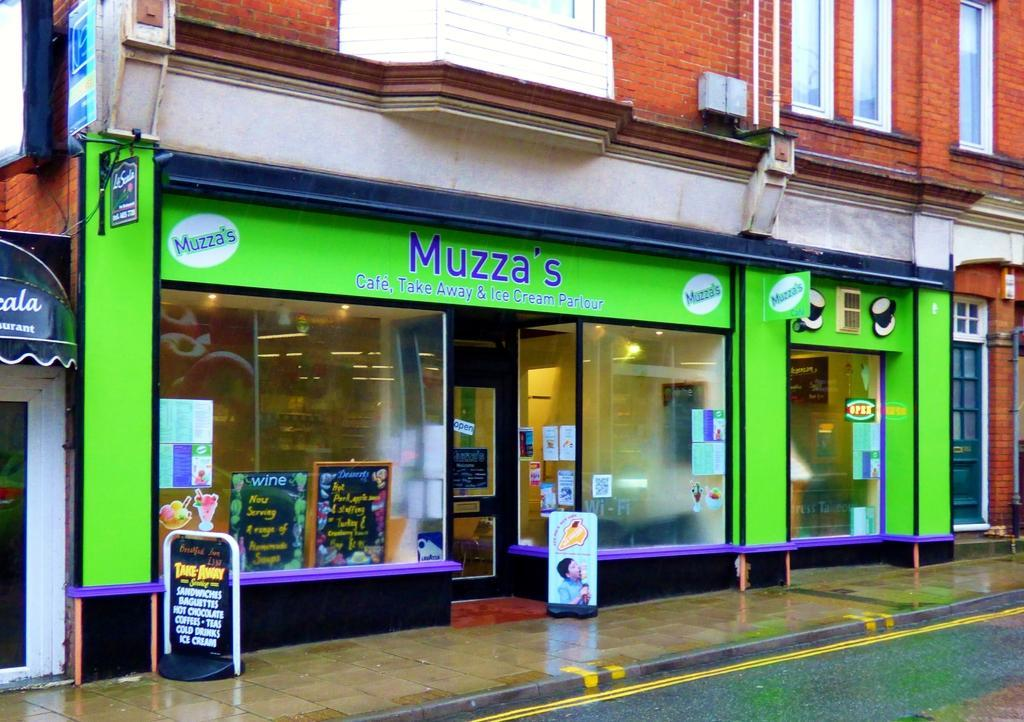door: (0, 382, 62, 660), (455, 372, 505, 584), (950, 342, 988, 522)
